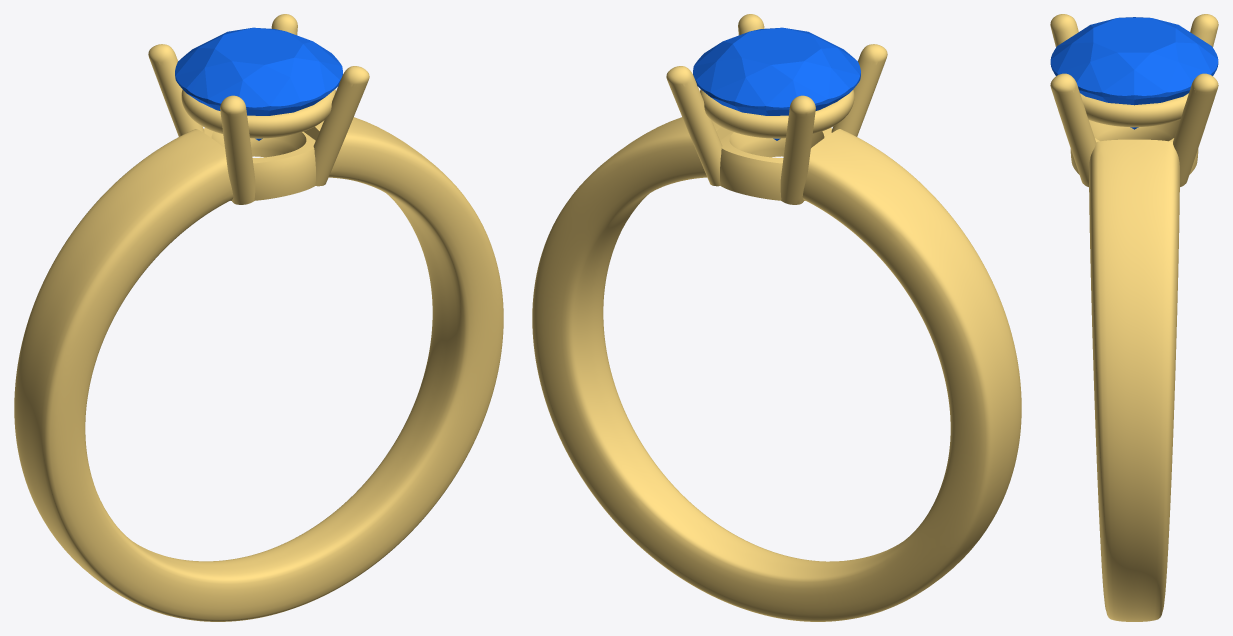
Rendered from bluesapphire-round-yellowgold-4prong-straighttaperedband-nosidestones.glb.
3 views of the same model, side by side, from view 1: azimuth 30°, elevation 25°; view 2: azimuth 150°, elevation 25°; view 3: azimuth 270°, elevation 25° (orthographic).
Visible parts, largest first — view 1: metal, stone; view 2: metal, stone; view 3: metal, stone.
Part boxes in pixels (<box>): metal: <box>14,14,503,621</box>; stone: <box>175,27,342,140</box>; metal: <box>532,14,1021,621</box>; stone: <box>693,27,860,140</box>; metal: <box>1050,14,1218,621</box>; stone: <box>1050,17,1218,129</box>.
Bounding box in the file's own units: 20.51 × 23.82 × 6.45.
